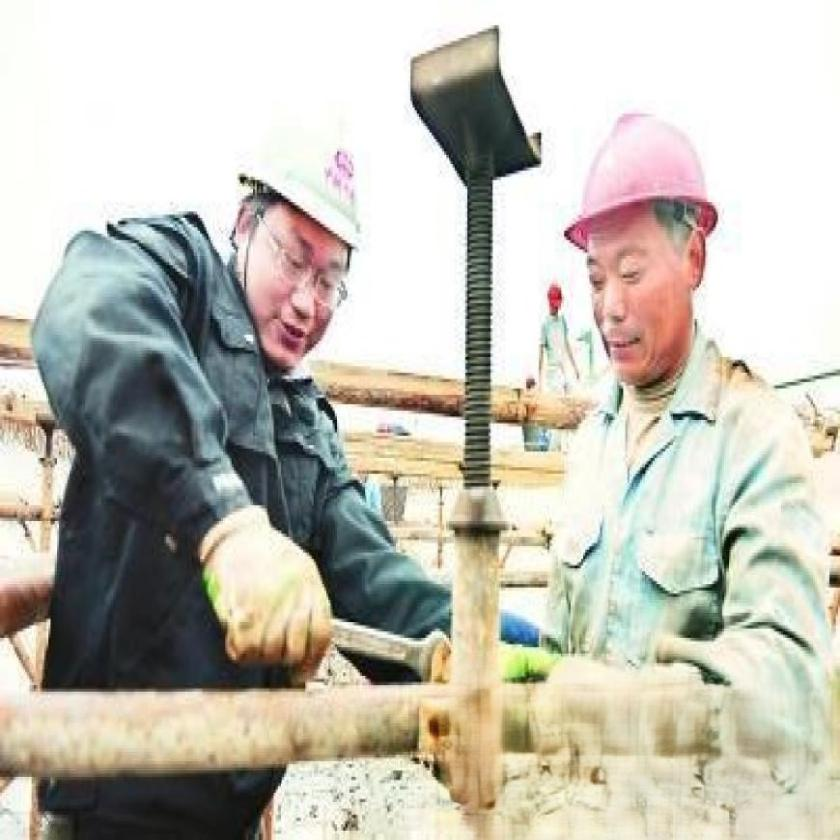Con_casco: (217, 90, 392, 378), (548, 87, 711, 379)
